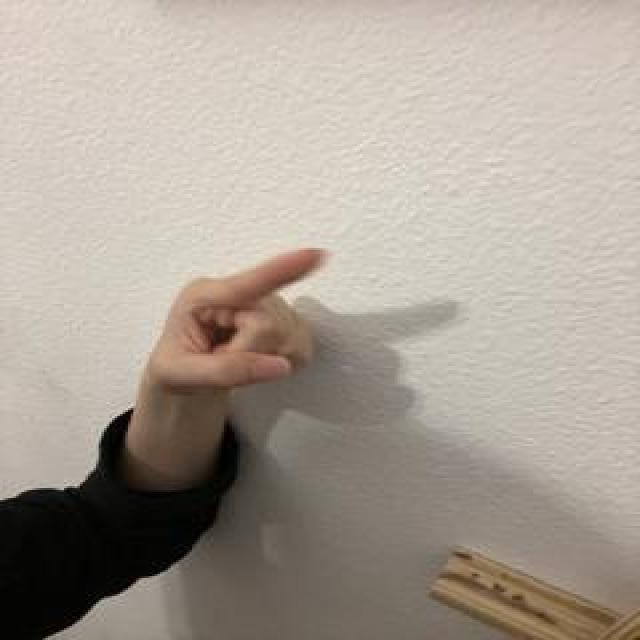Z: (136, 242, 341, 398)
